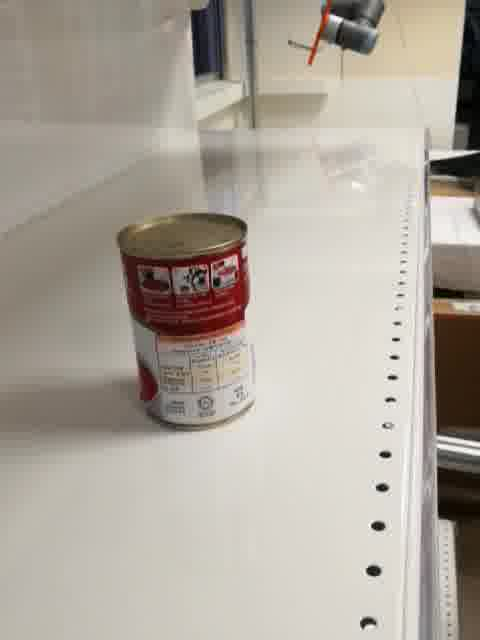tomatosoup: (115, 208, 257, 434)
